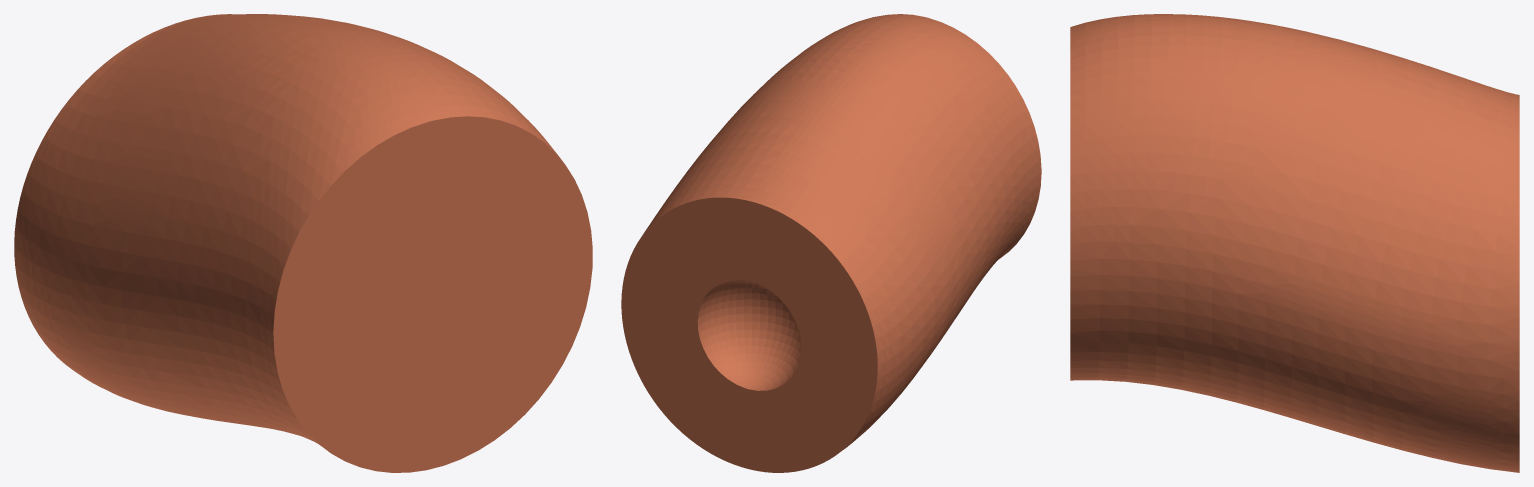
The model's file is l-clavicle.dae.
The picture shows the model from 3 angles, left to right: view 1: azimuth 30°, elevation 25°; view 2: azimuth 150°, elevation 25°; view 3: azimuth 270°, elevation 25°; orthographic projection. The views are drawn at different scales.
Parts seen in each view (by area): view 1: polySurface1; view 2: polySurface1; view 3: polySurface1.
Part boxes in pixels (x1,y1,x2,y2): polySurface1: (14, 14, 592, 472); polySurface1: (621, 14, 1041, 472); polySurface1: (1070, 14, 1519, 472).
Bounding box in the file's own units: 0.1036 × 0.1237 × 0.1176.
